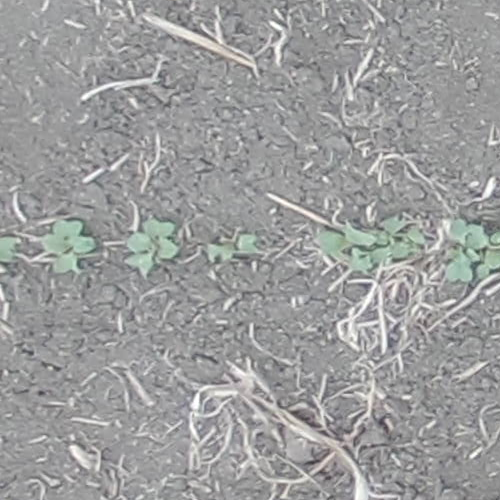clumped: (319, 216, 427, 272), (445, 219, 499, 284)
isolated: (125, 220, 178, 273), (44, 220, 97, 272), (207, 232, 259, 262), (1, 236, 17, 264)
